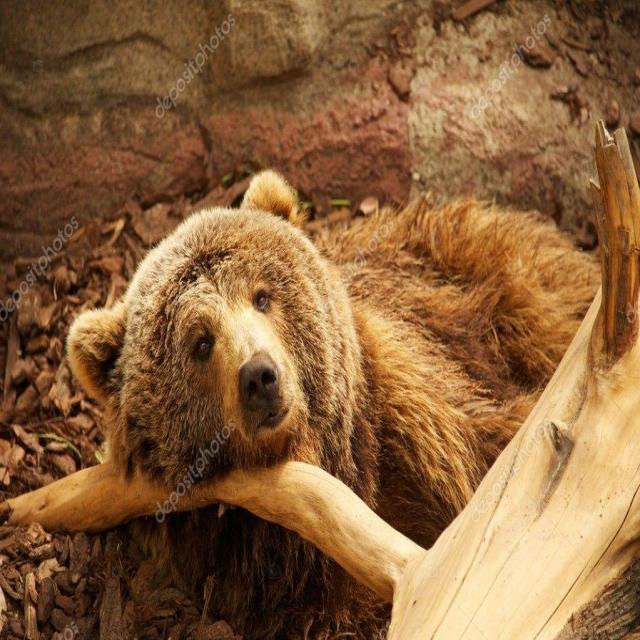Bear: (66, 171, 601, 550)
